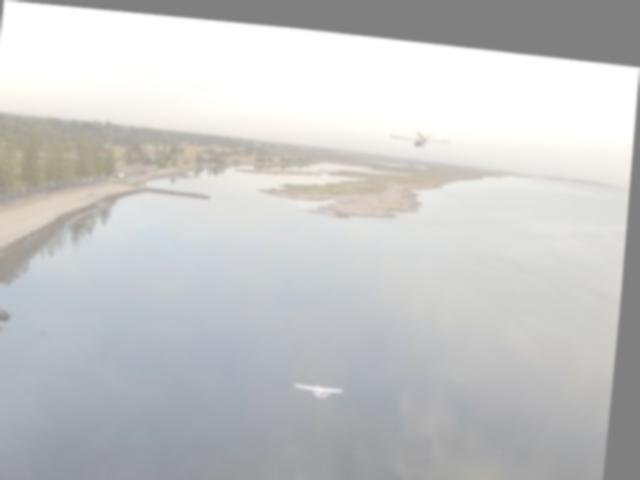uav: (390, 116, 453, 143), (298, 368, 351, 395)
